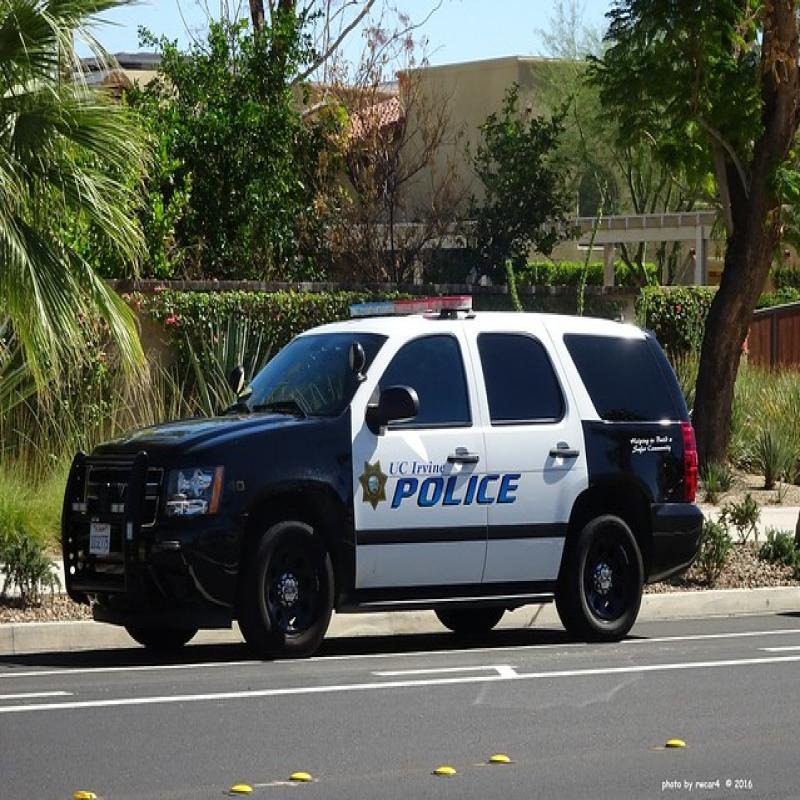AmbulanceSiren: (338, 268, 514, 340)
